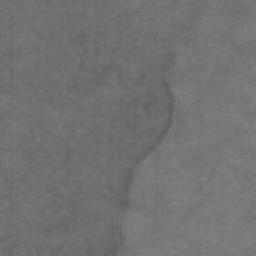Water spot: (0, 1, 210, 256)
